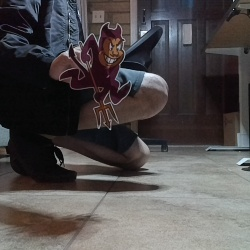sparky: (58, 21, 132, 130)
